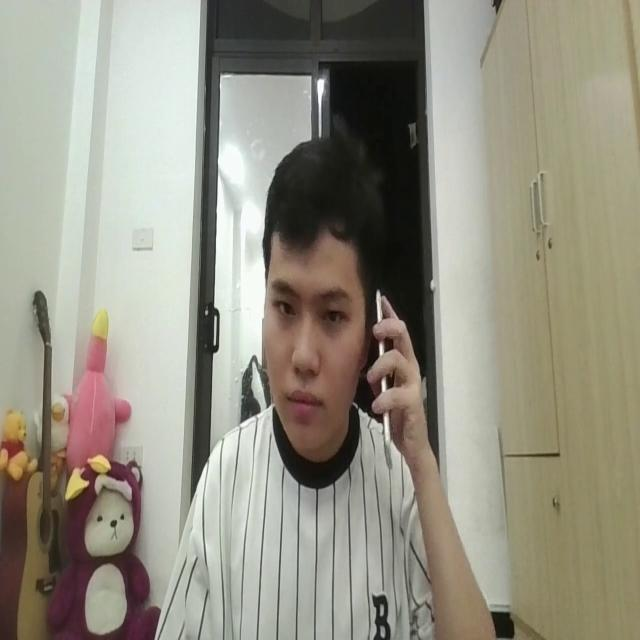phone: (372, 282, 393, 481)
student: (148, 122, 496, 640)
